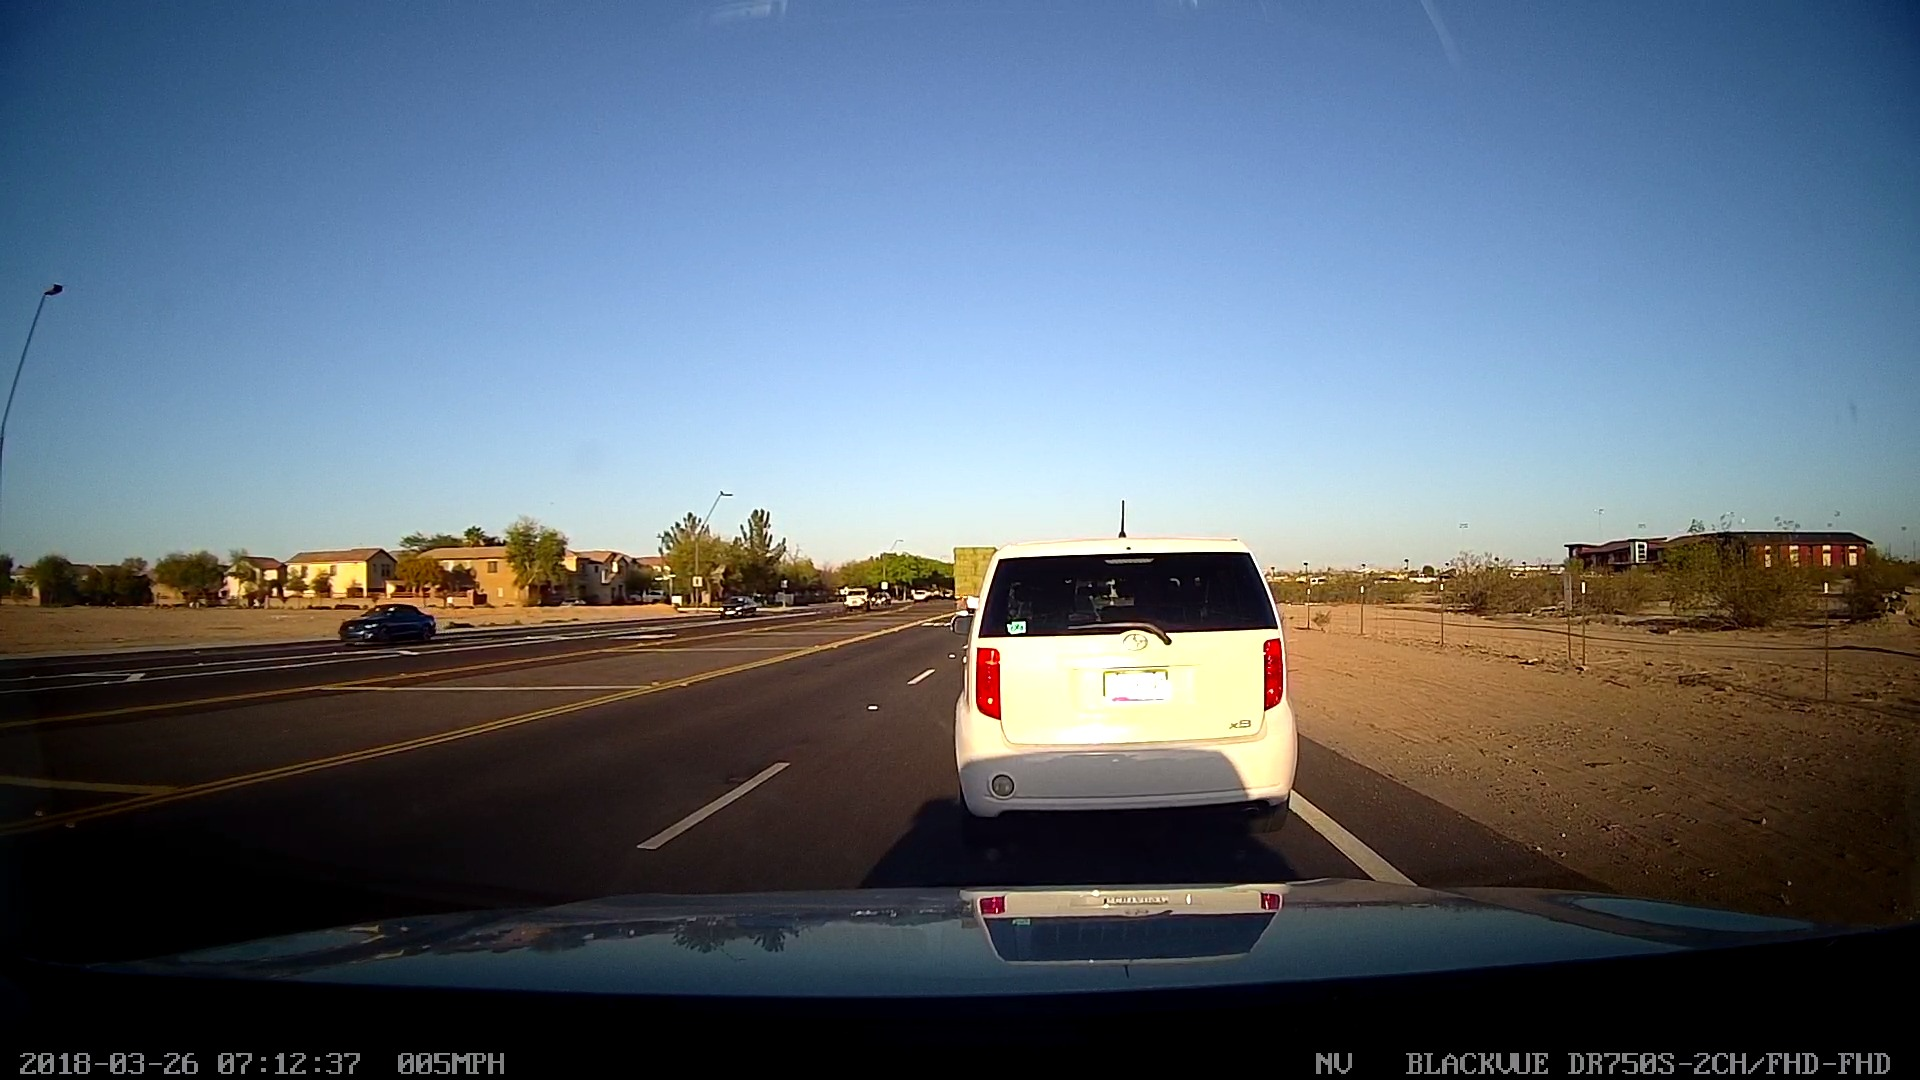plate: (1096, 662, 1179, 706)
vehicle: (949, 540, 1296, 834), (335, 598, 437, 648), (717, 591, 755, 621), (835, 585, 870, 616)
